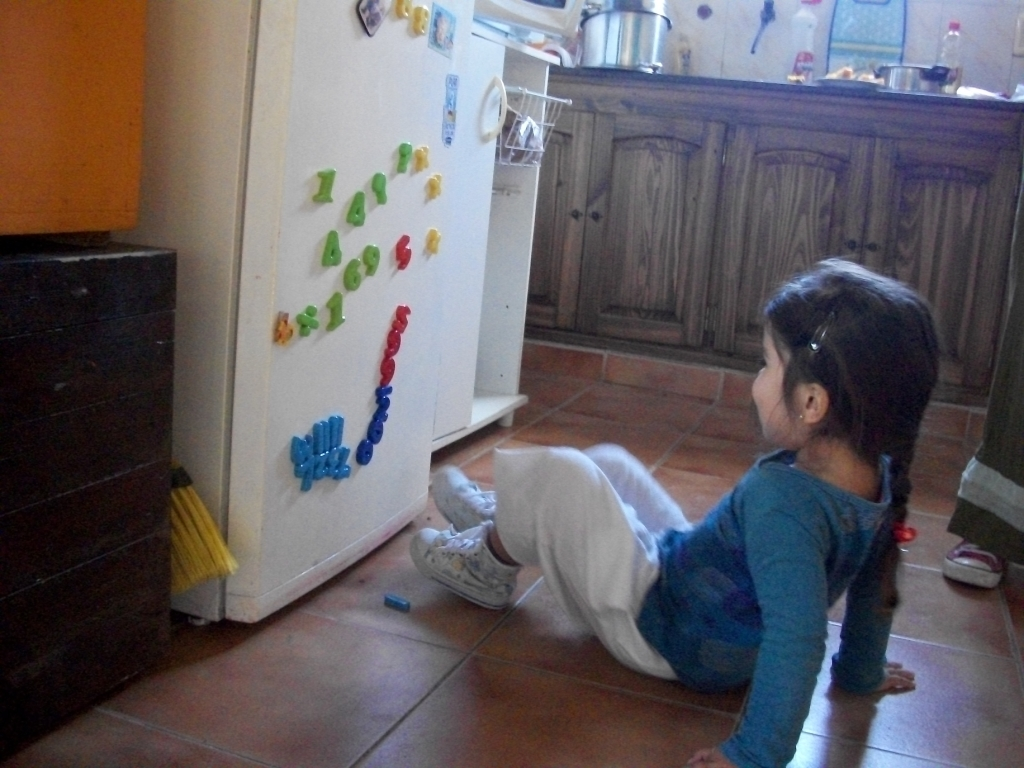cabinet door: (870, 133, 991, 391), (734, 127, 854, 358), (594, 115, 702, 333), (0, 485, 178, 548), (2, 624, 169, 691), (546, 98, 593, 323), (4, 267, 180, 323), (0, 415, 177, 470), (15, 558, 168, 620), (11, 330, 177, 387)
handle: (486, 66, 511, 151), (588, 203, 607, 233), (865, 233, 882, 260), (567, 202, 586, 226), (845, 229, 862, 253)
refrigerator door: (250, 33, 430, 597)
